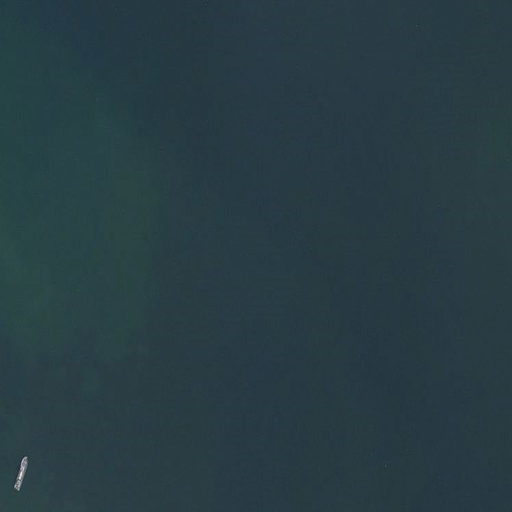ship: (14, 456, 29, 492)
